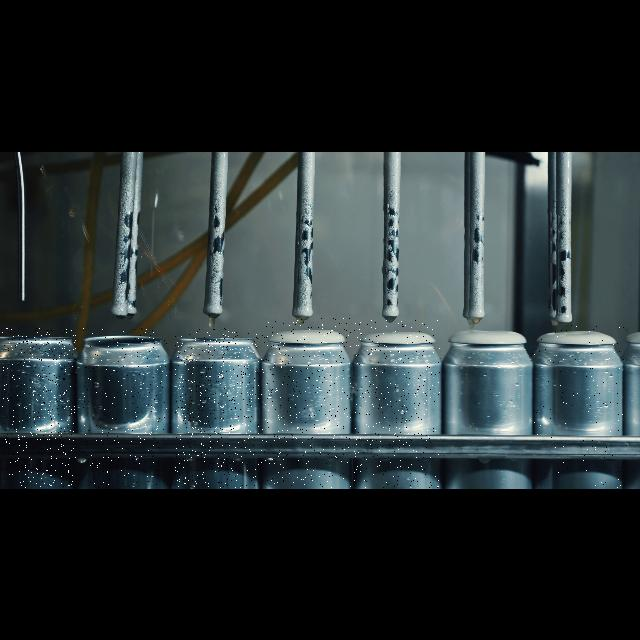empty: (83, 328, 167, 488), (175, 328, 259, 488), (2, 328, 76, 488)
full: (261, 318, 351, 488), (532, 324, 624, 488), (354, 320, 440, 488), (444, 322, 526, 488)
